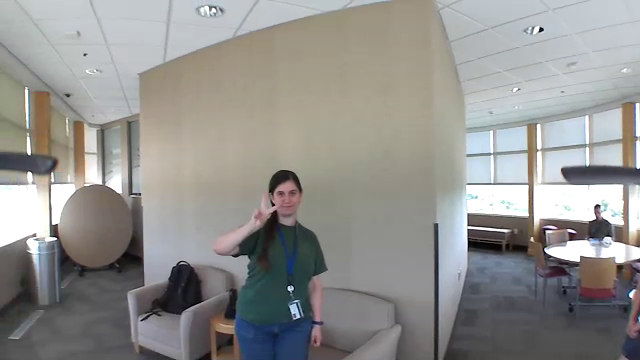peace: (246, 189, 280, 229)
